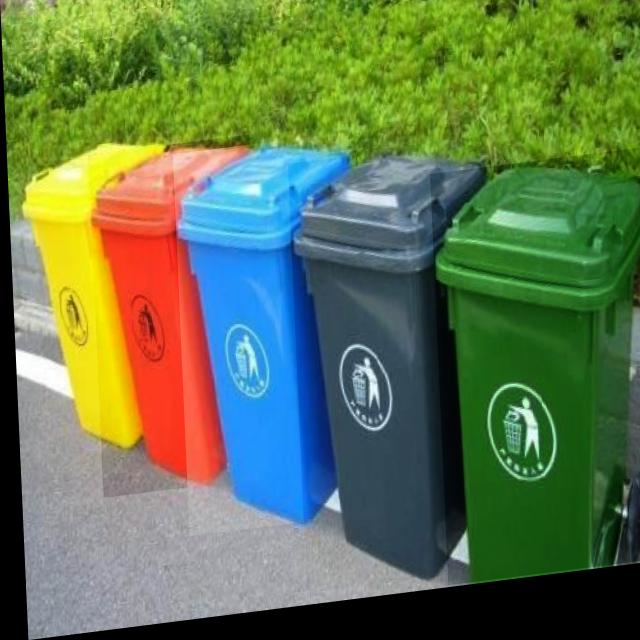garbage_bin: (286, 152, 497, 600), (428, 164, 640, 596), (171, 141, 360, 540), (87, 141, 260, 500), (16, 137, 174, 459)
